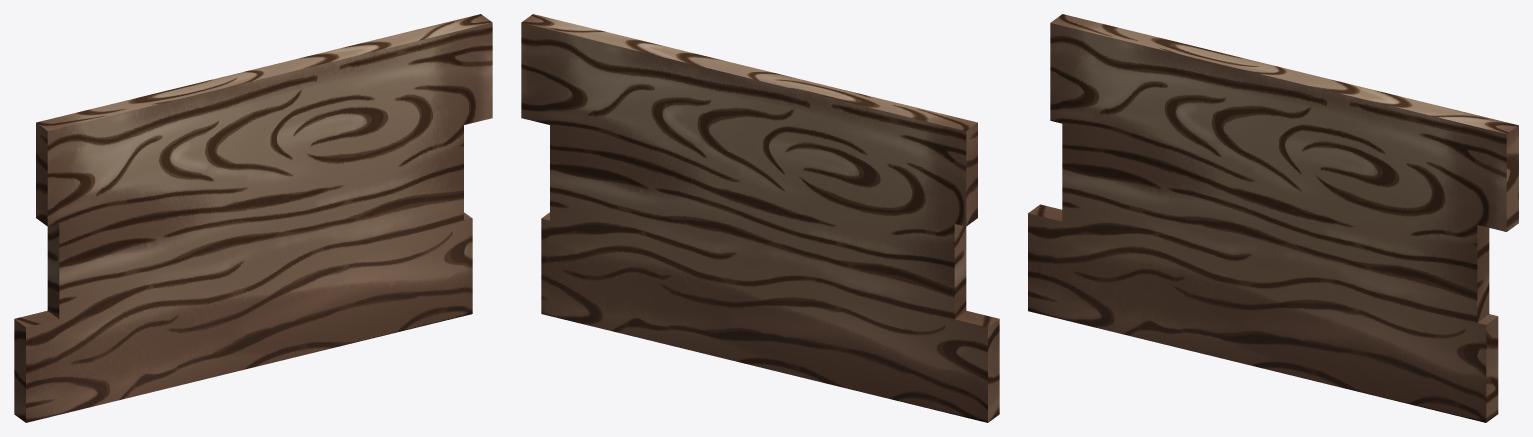
File: CARTEL_GRANDE.fbx
3 views of the same model, side by side, from view 1: azimuth 30°, elevation 25°; view 2: azimuth 150°, elevation 25°; view 3: azimuth 330°, elevation 25° (orthographic). The views are drawn at different scales.
Parts seen in each view (by area): view 1: Cube; view 2: Cube; view 3: Cube.
Part boxes in pixels (x1=…): Cube: x1=14, y1=14, x2=492, y2=422; Cube: x1=521, y1=14, x2=999, y2=422; Cube: x1=1028, y1=14, x2=1518, y2=422.
Size of the model in its own units: 195 by 114 by 8.52.
